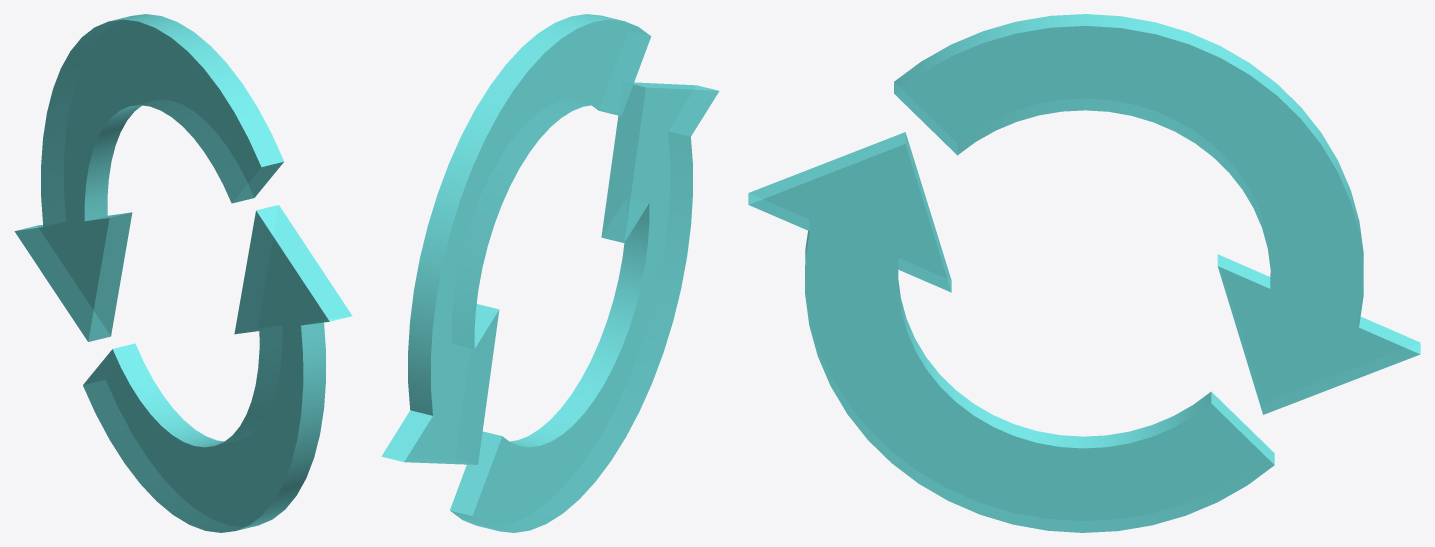
Rendered from Arrow_rotate.fbx.
3 renders of one model, left to right at view 1: azimuth 30°, elevation 25°; view 2: azimuth 150°, elevation 25°; view 3: azimuth 270°, elevation 25°, orthographic. The views are drawn at different scales.
Parts seen in each view (by area): view 1: arrow 2, arrow 1; view 2: arrow 1, arrow 2; view 3: arrow 1, arrow 2.
Boxes of the visible parts, <box> form: arrow 2: <box>83,205,352,532</box>; arrow 1: <box>14,14,284,341</box>; arrow 1: <box>381,14,651,464</box>; arrow 2: <box>450,82,719,532</box>; arrow 1: <box>894,14,1420,414</box>; arrow 2: <box>748,132,1274,532</box>.
Size of the model in its own units: 0.1513 by 3.01 by 3.62.
